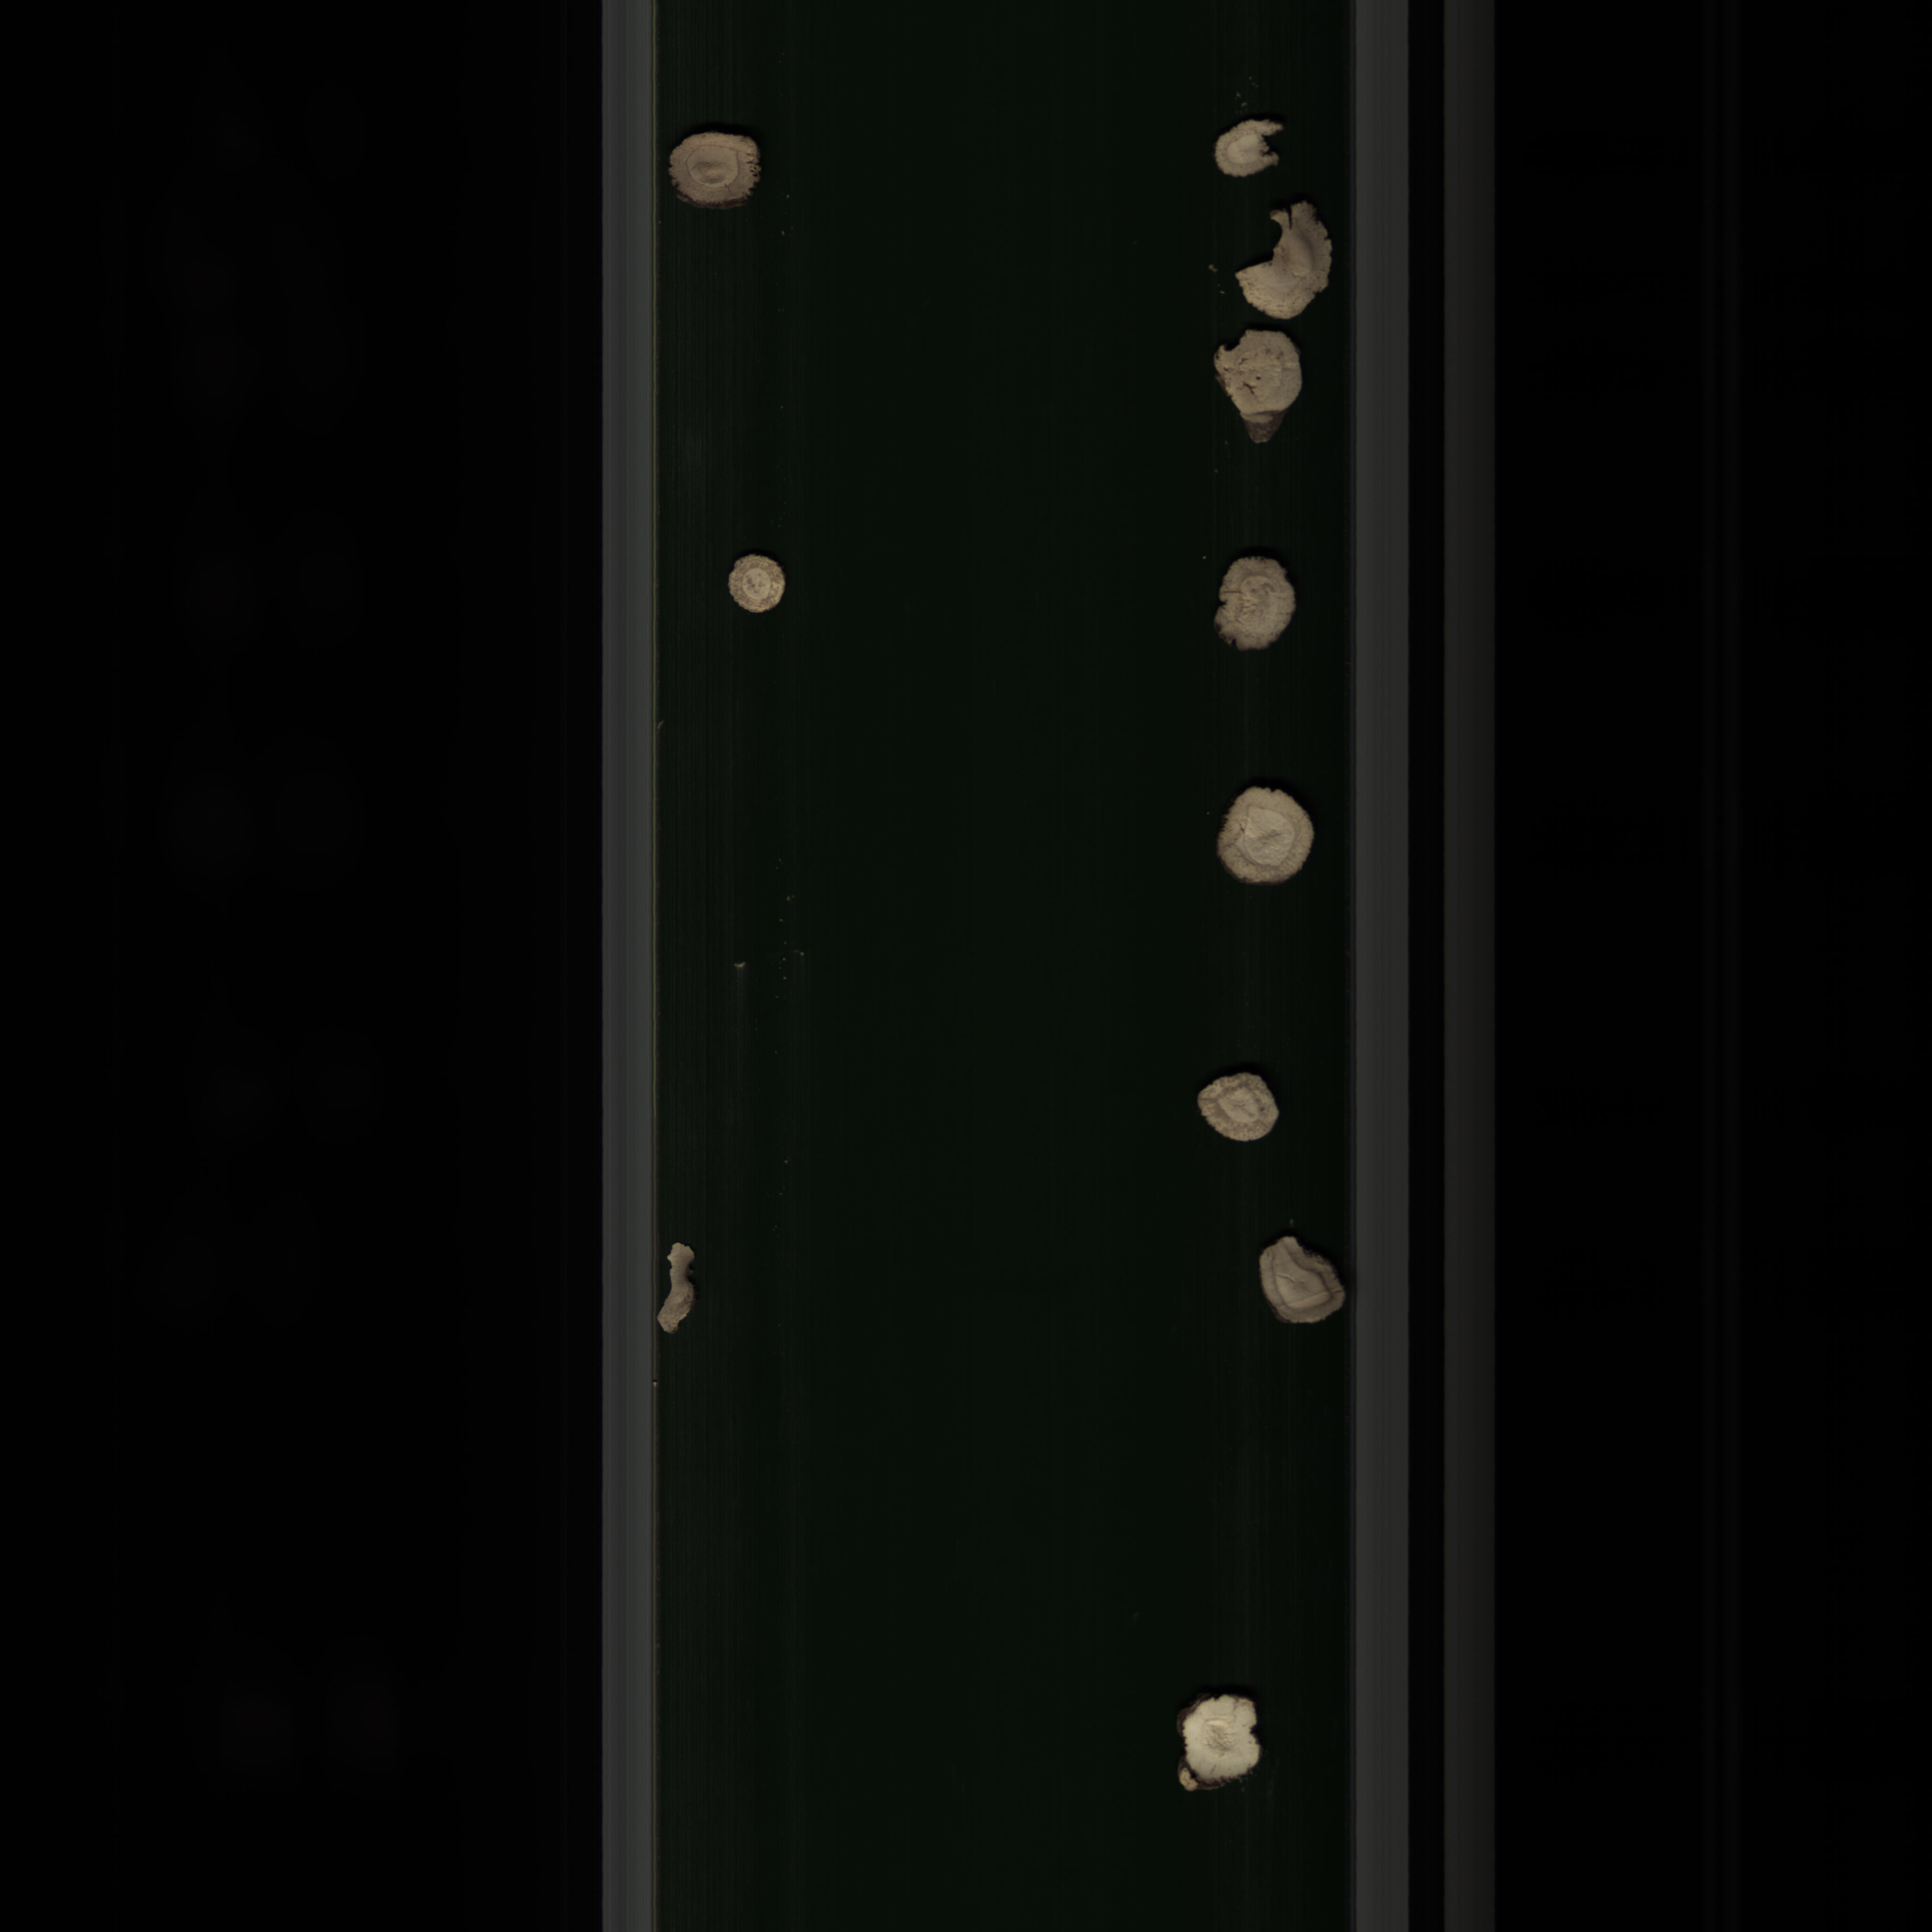bark: (651, 1231, 699, 1345)
debris: (1200, 315, 1311, 456), (1226, 196, 1338, 327), (1171, 1690, 1276, 1810), (1215, 548, 1304, 662), (1201, 119, 1292, 182)
moldy: (1249, 1228, 1359, 1338), (662, 129, 773, 205)
